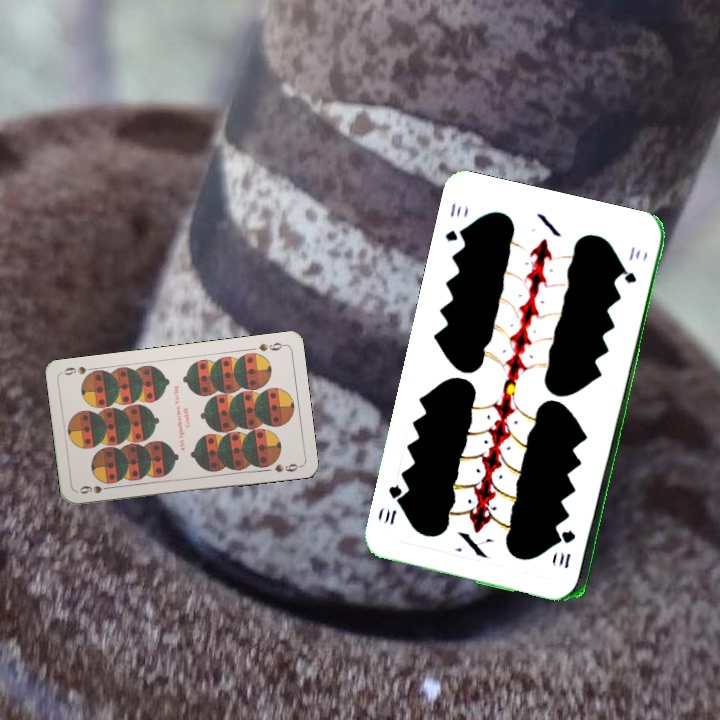G10: (441, 198, 469, 245), (555, 526, 578, 571)
S9: (76, 481, 115, 496), (255, 338, 287, 354)
